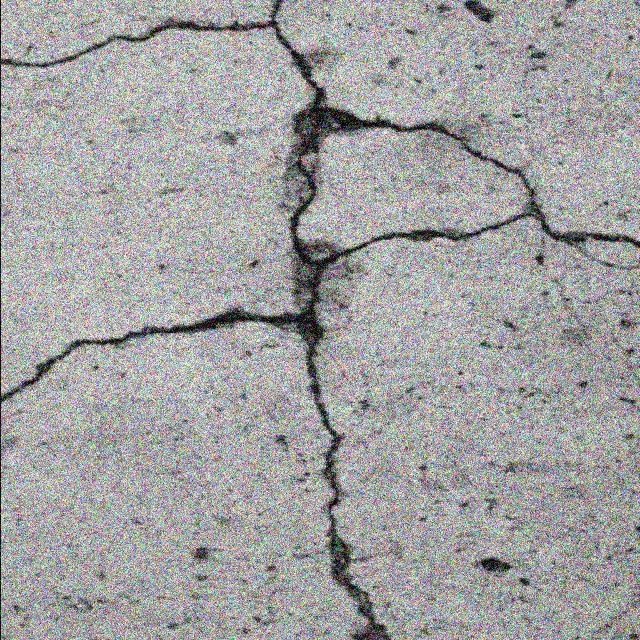SurfaceCrack: (2, 49, 638, 640)
